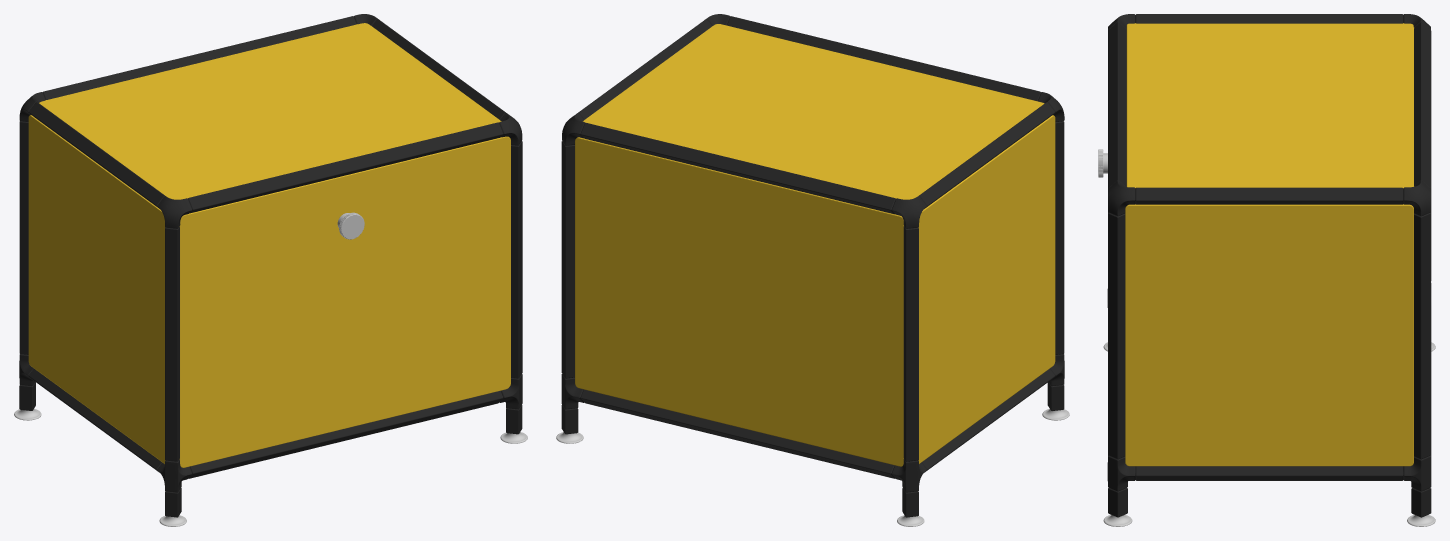
3 views of the same model, side by side, from view 1: azimuth 30°, elevation 25°; view 2: azimuth 150°, elevation 25°; view 3: azimuth 270°, elevation 25° (orthographic). The views are drawn at different scales.
Parts seen in each view (by area): view 1: 523x374x374; view 2: 523x374x374; view 3: 523x374x374.
Part boxes in pixels (x1,y1,x2,y2): 523x374x374: (14, 14, 527, 526); 523x374x374: (556, 14, 1069, 526); 523x374x374: (1098, 14, 1435, 526).
Bounding box in the file's own units: 0.6129 × 0.5132 × 0.4707.
